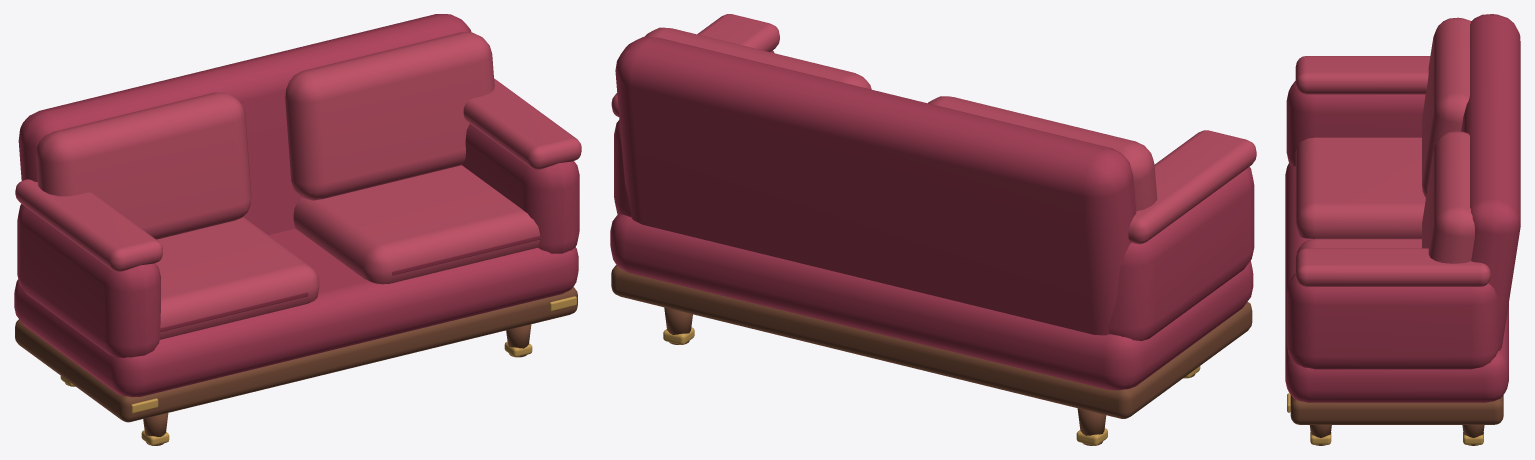
Rendered from cinema-sofa.glb.
3 renders of one model, left to right at view 1: azimuth 30°, elevation 25°; view 2: azimuth 150°, elevation 25°; view 3: azimuth 270°, elevation 25°, orthographic. The views are drawn at different scales.
Parts seen in each view (by area): view 1: Upholstered base, Back cushion 1, Back cushion 0, Back shell, Seat cushion 1, Seat cushion 0, Walnut plinth, Curved arm 0, Curved arm 1, Arm top 0, Arm top 1, Front cushion welt.001 (+1 smaller); view 2: Back shell, Upholstered base, Walnut plinth, Curved arm 0, Arm top 0, Back cushion 0, Back cushion 1, Arm top 1, Curved arm 1, Tapered leg.001, Tapered leg.003; view 3: Curved arm 1, Back shell, Seat cushion 0, Upholstered base, Arm top 1, Curved arm 0, Back cushion 1, Back cushion 0, Arm top 0, Walnut plinth, Seat cushion 1, Tapered leg.002 (+1 smaller).
Boxes of the visible parts, x1,y1,x2,y2 form: Upholstered base: [14, 228, 578, 397]; Back cushion 1: [285, 32, 494, 200]; Back cushion 0: [36, 92, 251, 239]; Back shell: [18, 14, 471, 234]; Seat cushion 1: [293, 165, 539, 284]; Seat cushion 0: [155, 217, 319, 339]; Walnut plinth: [15, 287, 577, 422]; Curved arm 0: [17, 204, 160, 357]; Curved arm 1: [462, 123, 579, 253]; Arm top 0: [15, 179, 162, 271]; Arm top 1: [463, 78, 581, 169]; Front cushion welt.001: [392, 235, 540, 275]; Back shell: [615, 37, 1136, 335]; Upholstered base: [610, 214, 1253, 390]; Walnut plinth: [611, 265, 1252, 418]; Curved arm 0: [1108, 167, 1254, 340]; Arm top 0: [1128, 130, 1256, 244]; Back cushion 0: [928, 96, 1157, 211]; Back cushion 1: [644, 27, 871, 89]; Arm top 1: [611, 14, 779, 116]; Curved arm 1: [614, 50, 774, 216]; Tapered leg.001: [1077, 408, 1106, 445]; Tapered leg.003: [664, 307, 692, 344]; Curved arm 1: [1286, 273, 1499, 369]; Back shell: [1461, 14, 1520, 350]; Seat cushion 0: [1295, 137, 1425, 238]; Upholstered base: [1285, 163, 1508, 402]; Arm top 1: [1295, 248, 1490, 286]; Curved arm 0: [1286, 81, 1425, 166]; Back cushion 1: [1422, 131, 1474, 263]; Back cushion 0: [1422, 17, 1471, 197]; Arm top 0: [1295, 56, 1430, 94]; Walnut plinth: [1290, 395, 1503, 424]; Seat cushion 1: [1295, 238, 1421, 258]; Tapered leg.002: [1309, 425, 1331, 445].
Size of the model in its own units: 1.95 by 1.05 by 0.8943.
